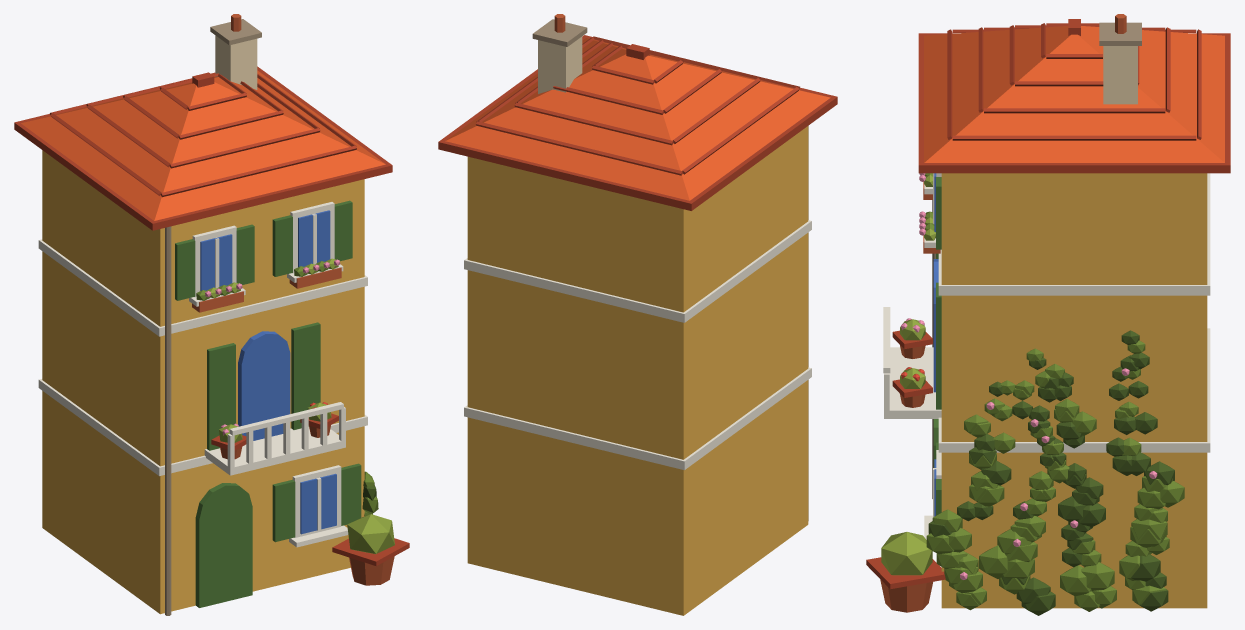
The model's file is townhouse_yellow.glb.
3 views of the same model, side by side, from view 1: azimuth 30°, elevation 25°; view 2: azimuth 150°, elevation 25°; view 3: azimuth 270°, elevation 25° (orthographic). The views are drawn at different scales.
Visible parts, largest first — view 1: townhouse_yellow; view 2: townhouse_yellow; view 3: townhouse_yellow.
Boxes of the visible parts, left/top/right/bottom form: townhouse_yellow: left=14, top=14, right=409, bottom=615; townhouse_yellow: left=438, top=14, right=837, bottom=615; townhouse_yellow: left=866, top=14, right=1230, bottom=615.
Bounding box in the file's own units: 5.5 × 10.9 × 6.3.
